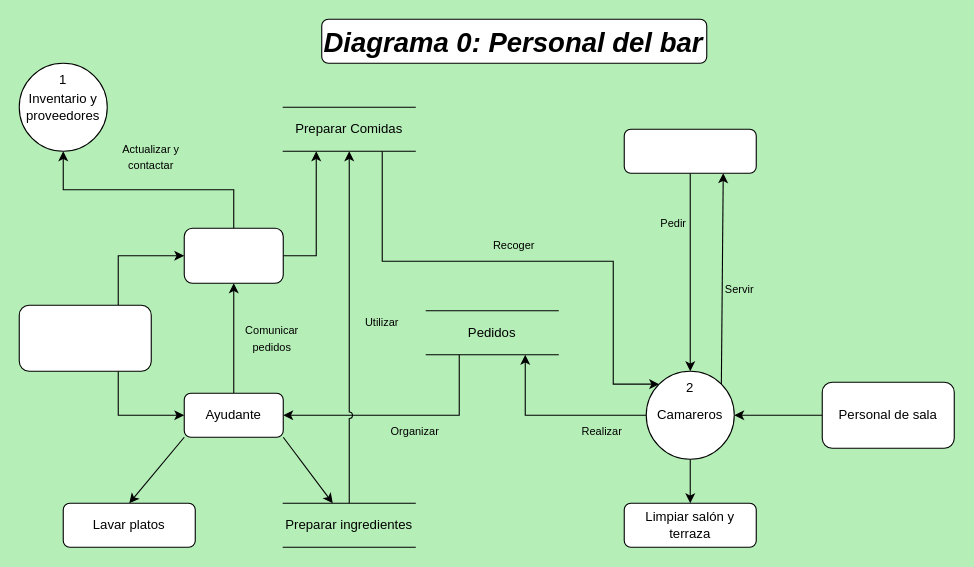
Some shapes in this 974 by 567 pixel diagram are drawn without their labels. The shapes that lost their labels are listed below. From the top down, each one's centre as x and y in pixels, then its label:
At point (689, 150): "Clientes".
At point (233, 255): "Cocineros".
At point (84, 337): "Personal de cocina".
